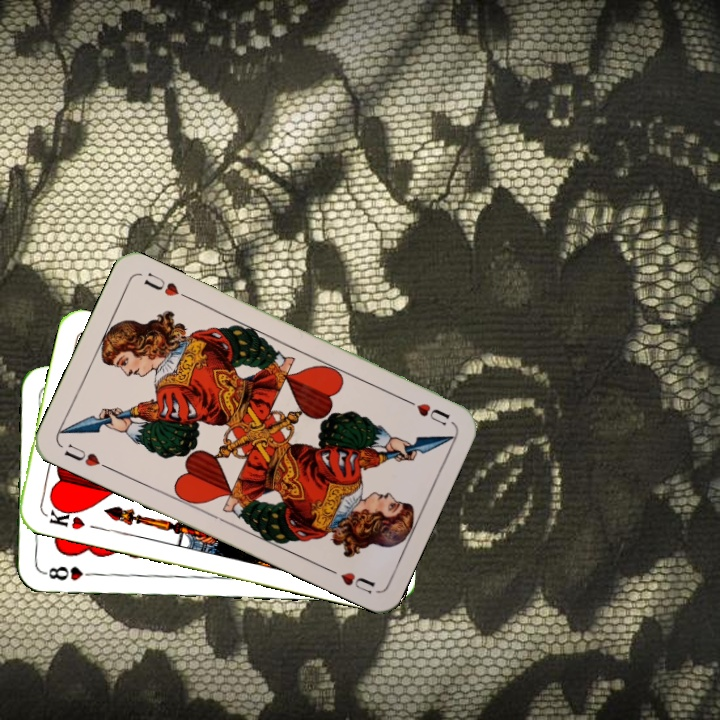H8: (40, 562, 99, 583)
HK: (45, 500, 88, 532)
HU: (399, 394, 453, 429), (60, 439, 113, 473)
